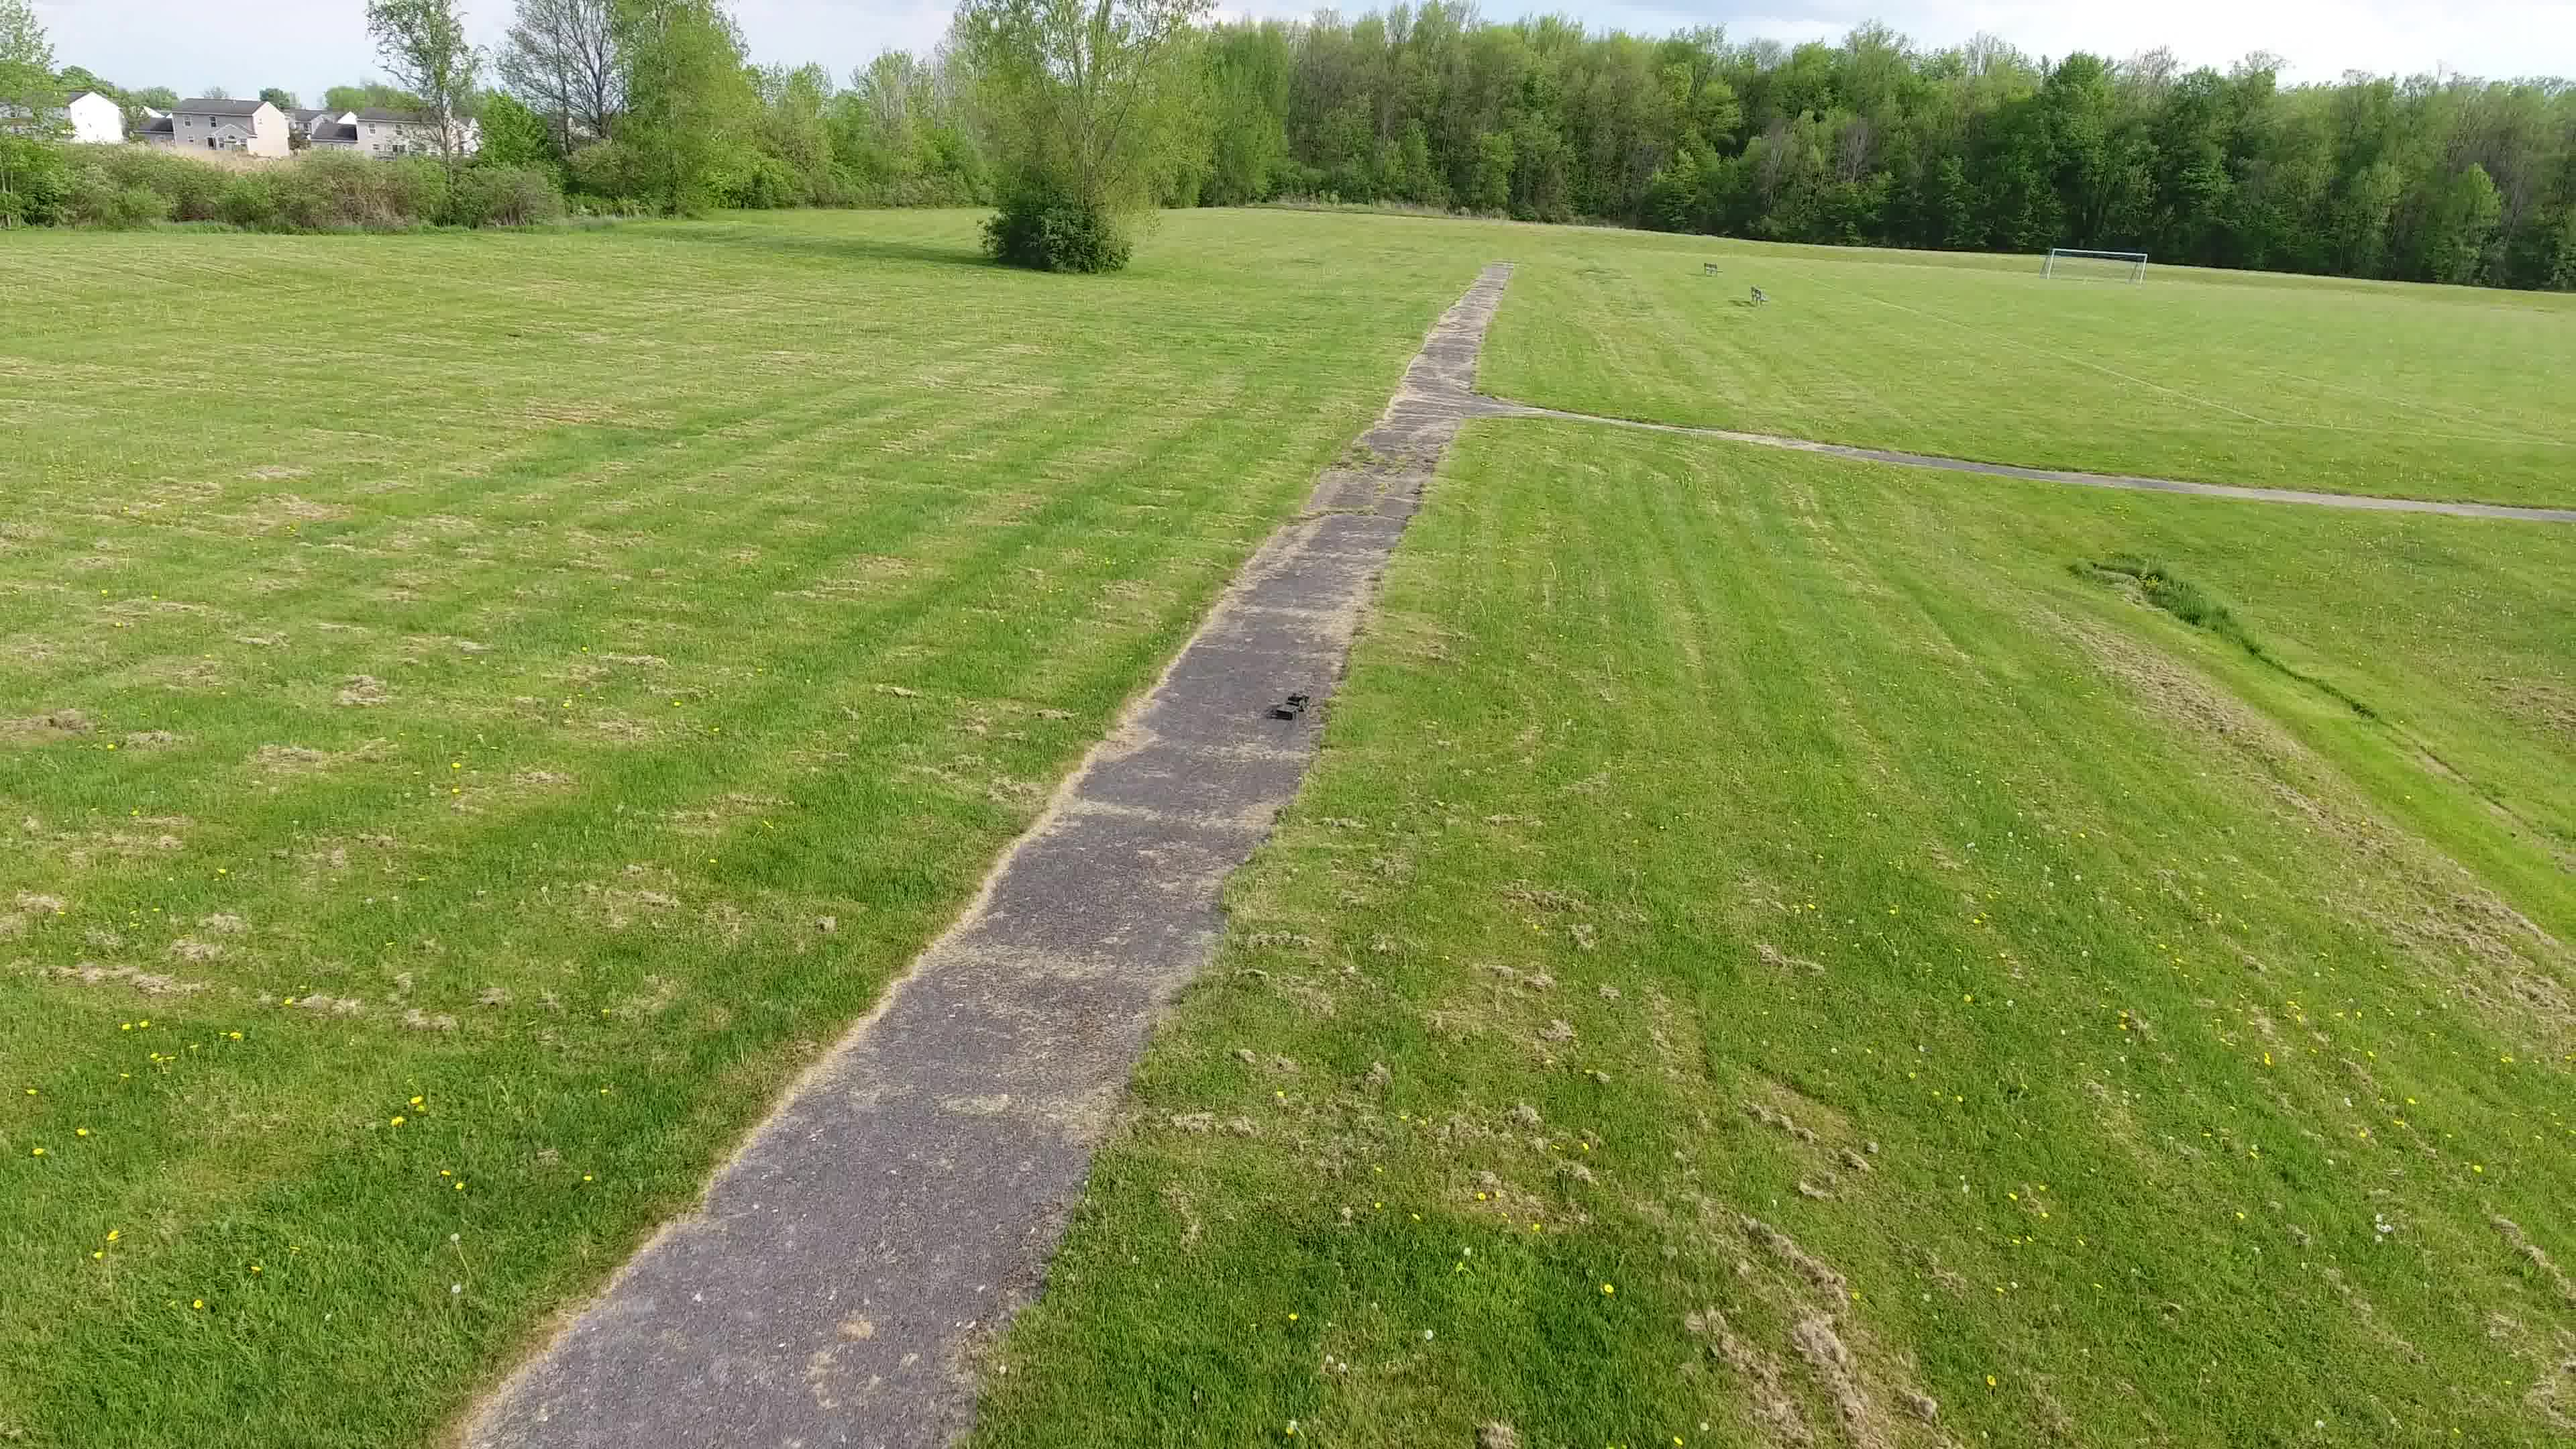transporter9_camo: (1274, 692, 1311, 722)
